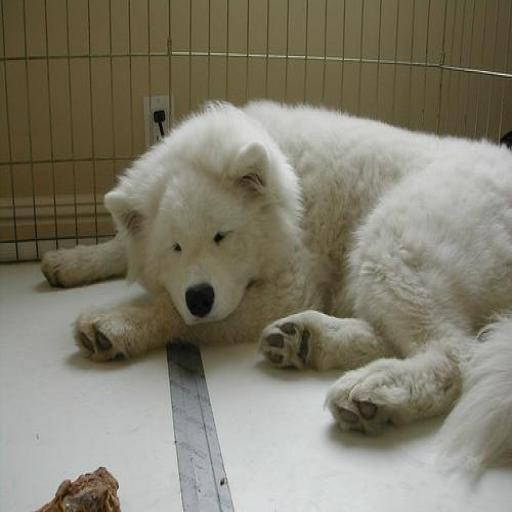dog_face: (108, 145, 275, 327)
